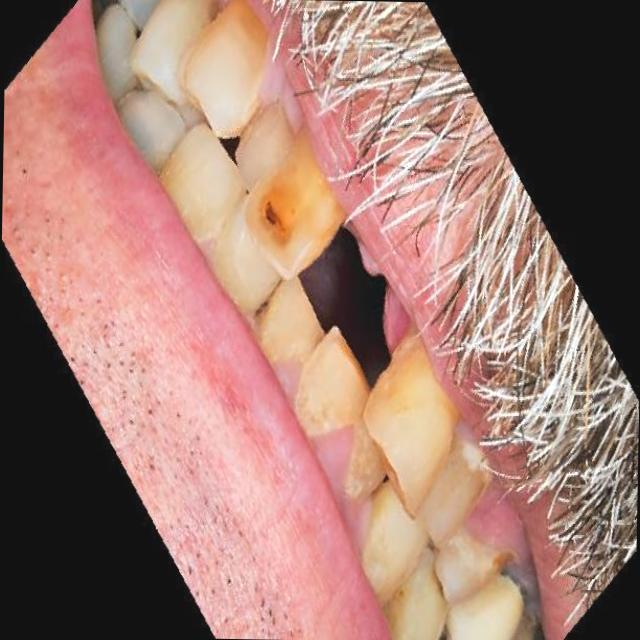calculus: (171, 2, 279, 120), (425, 436, 495, 536), (338, 438, 405, 528)
